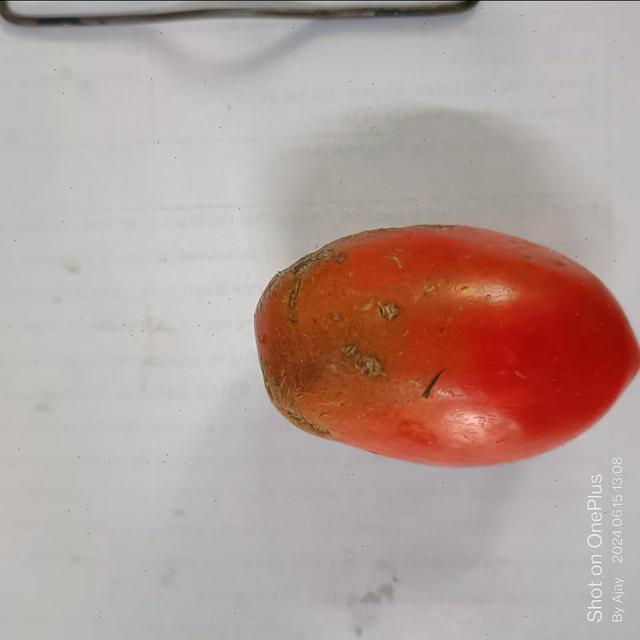Bacterial Spot Fruit: (17, 19, 261, 241)
